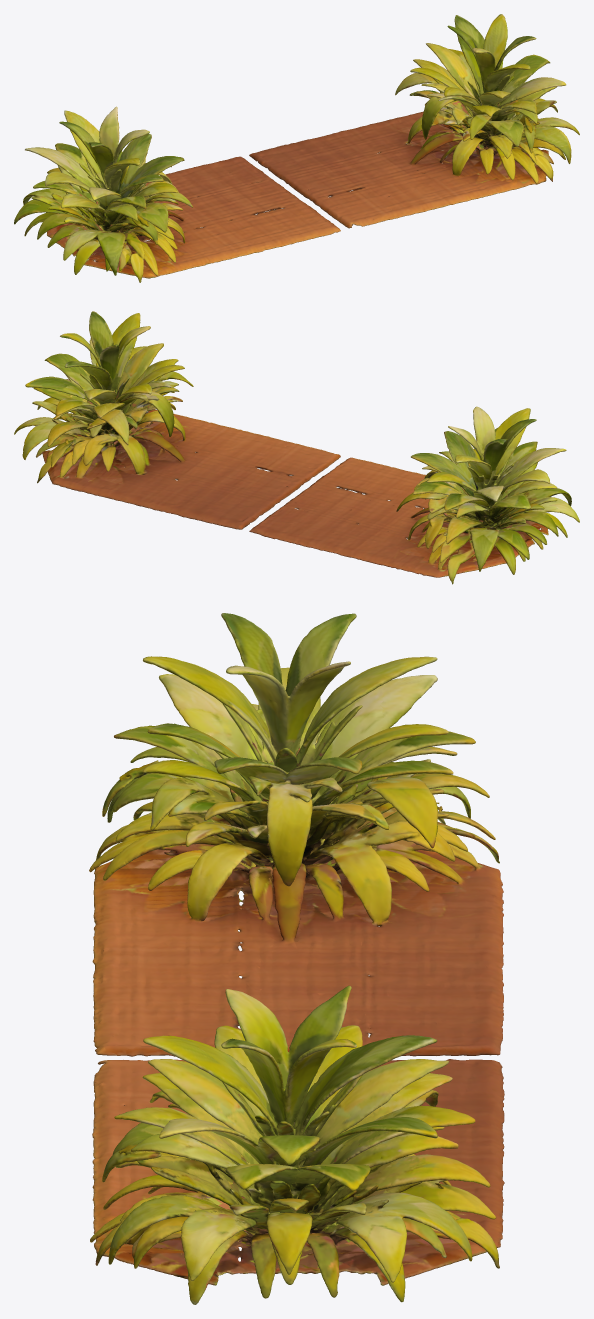
The model's file is travel.glb.
3 views of the same model, one above another, from view 1: azimuth 30°, elevation 25°; view 2: azimuth 150°, elevation 25°; view 3: azimuth 270°, elevation 25° (orthographic). The views are drawn at different scales.
Size of the model in its own units: 62169 by 13790 by 21502.
1 material, 1 textured.
